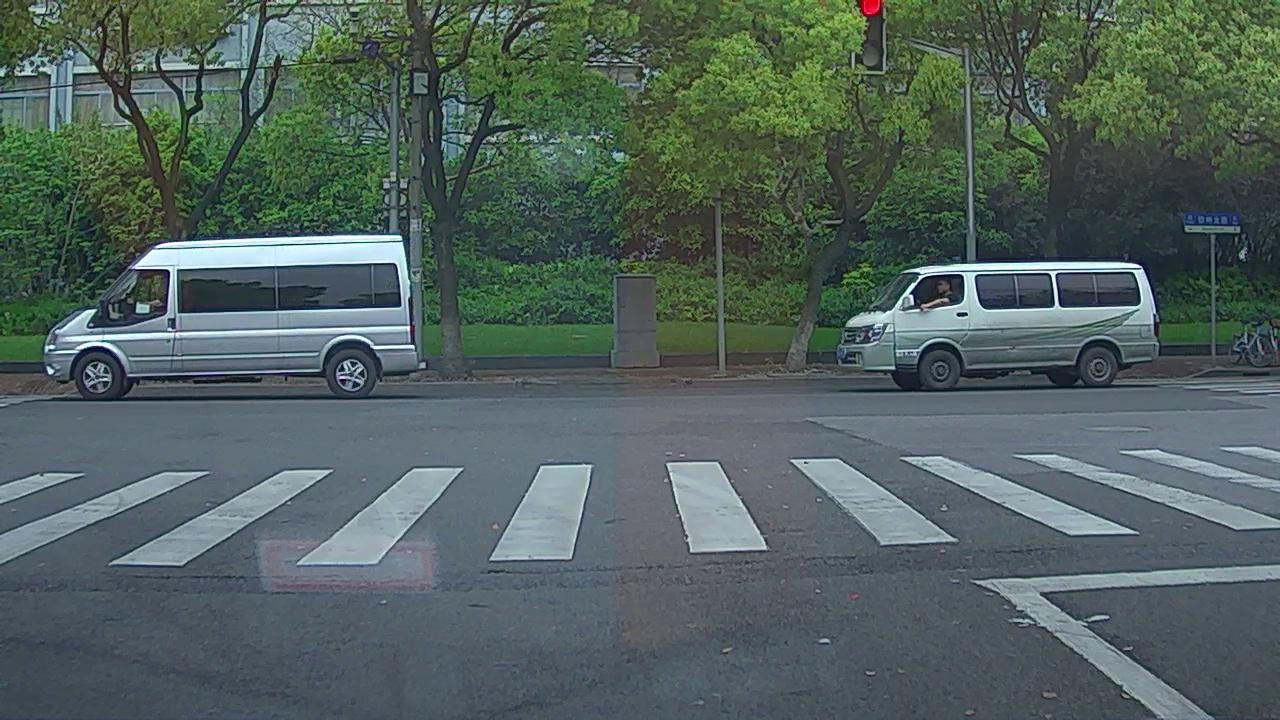traffic_light: (856, 1, 882, 75)
